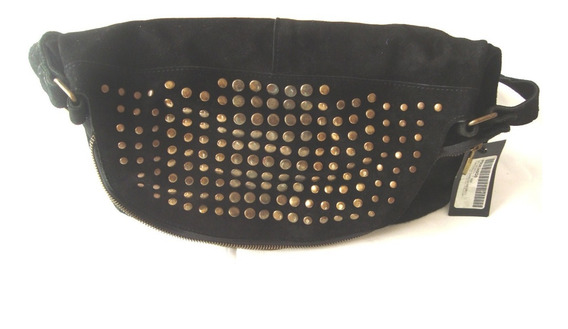cartera: (23, 18, 540, 251)
